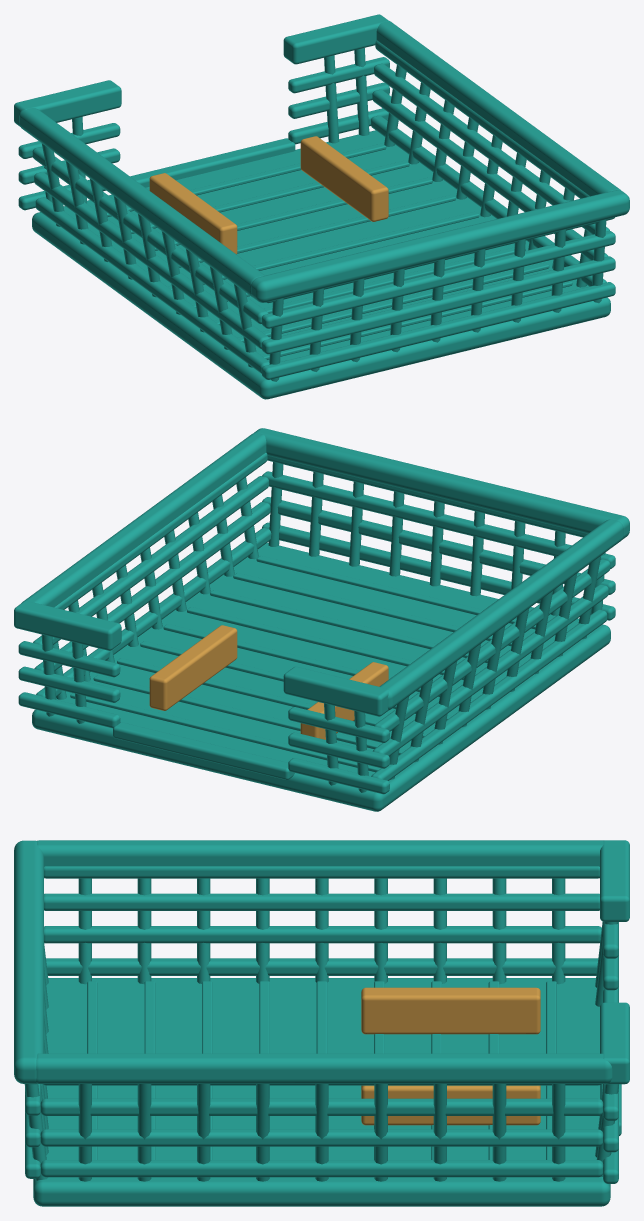
Rendered from chassis-plastic-basket.glb.
The picture shows the model from 3 angles, top to bottom: view 1: azimuth 30°, elevation 25°; view 2: azimuth 150°, elevation 25°; view 3: azimuth 270°, elevation 25°; orthographic projection. The views are drawn at different scales.
Parts seen in each view (by area): view 1: plastic, brass; view 2: plastic, brass; view 3: plastic, brass.
Part boxes in pixels (<box>): plastic: <box>14,14,629,399</box>; brass: <box>149,136,388,254</box>; plastic: <box>14,428,629,811</box>; brass: <box>149,625,388,739</box>; plastic: <box>14,840,629,1206</box>; brass: <box>361,987,540,1125</box>.
Size of the model in its own units: 1.48 by 0.4775 by 1.72.
